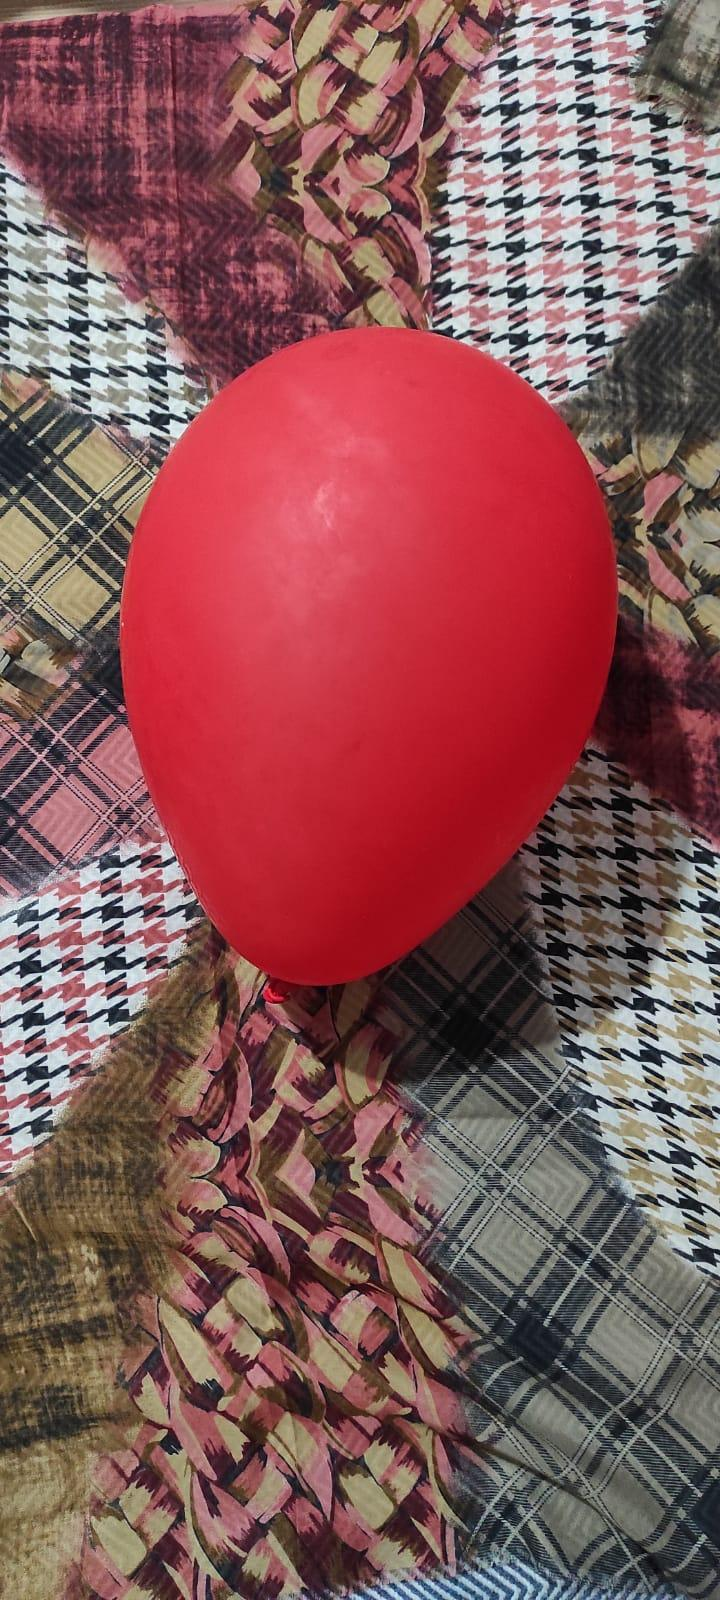red: (111, 307, 622, 999)
